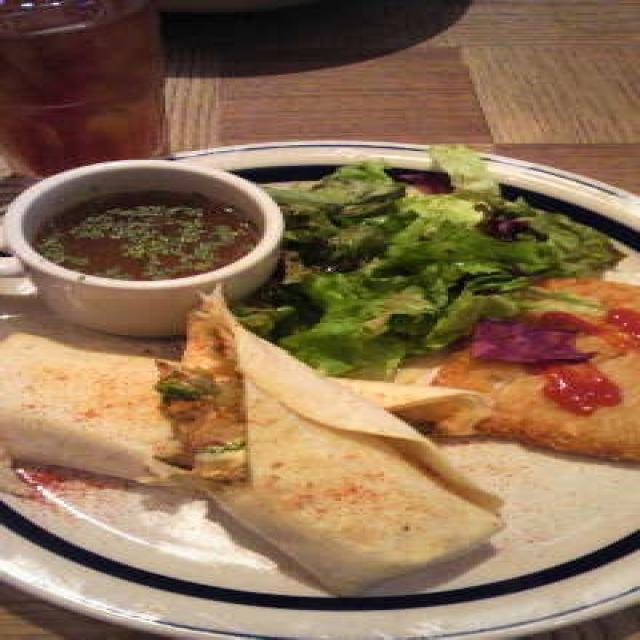面包点心: (8, 95, 613, 620)
